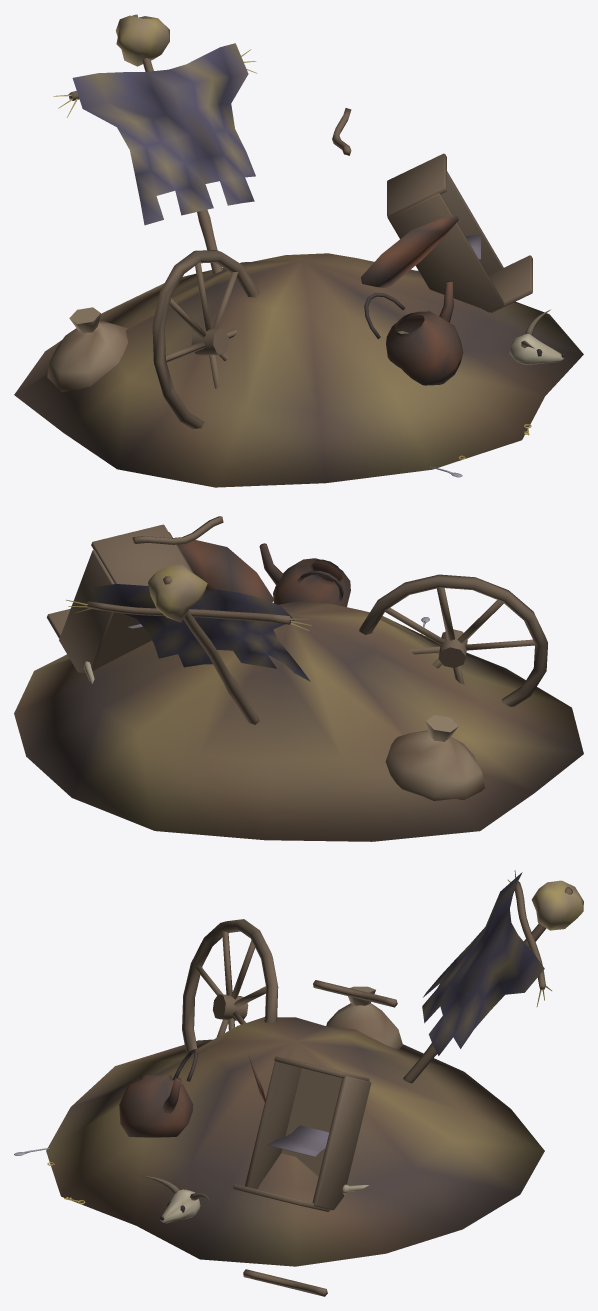
The model's file is camp_hob_loot_pile.glb.
3 views of the same model, one above another, from view 1: azimuth 30°, elevation 25°; view 2: azimuth 150°, elevation 25°; view 3: azimuth 270°, elevation 25° (orthographic). The views are drawn at different scales.
Parts seen in each view (by area): view 1: camp_hob_loot_pile; view 2: camp_hob_loot_pile; view 3: camp_hob_loot_pile.
Boxes of the visible parts, bbox=[...] form: camp_hob_loot_pile: bbox=[14, 14, 583, 487]; camp_hob_loot_pile: bbox=[14, 516, 583, 841]; camp_hob_loot_pile: bbox=[14, 870, 583, 1296].
Size of what is drawn, in the model's own units: 2.89 by 1.84 by 3.06.
